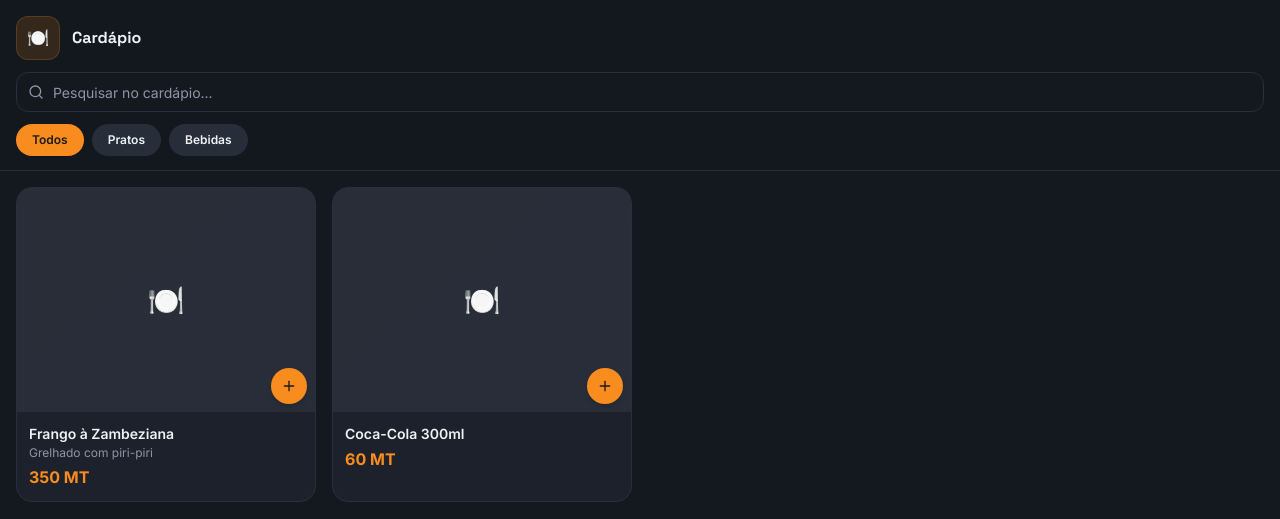
Pedido pelo cliente — mesa (QR) › filtro por categoria mostra só os itens dessa categoria
Click the button "Bebidas": (209, 140) left=169, top=124, right=248, bottom=156
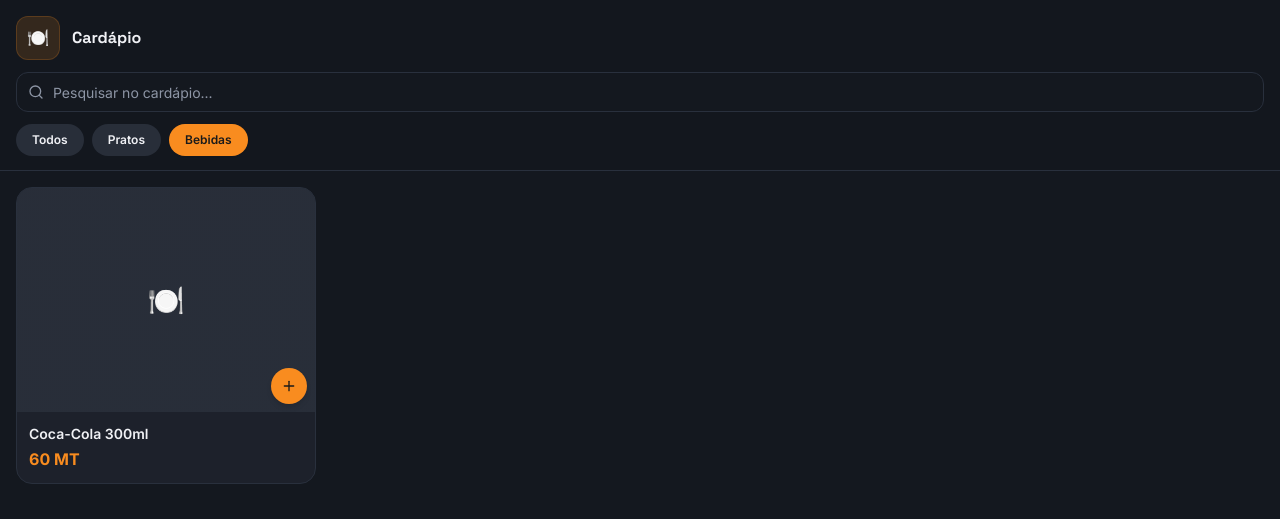
Check: the text "Coca-Cola 300ml" is shown, box left=29, top=424, right=148, bottom=442
Check: the button "Frango à Zambeziana" is gone
